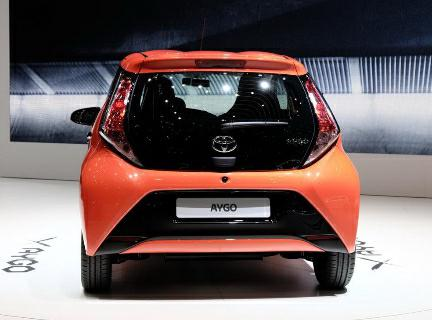丰田-Aygo: (73, 41, 365, 295)
